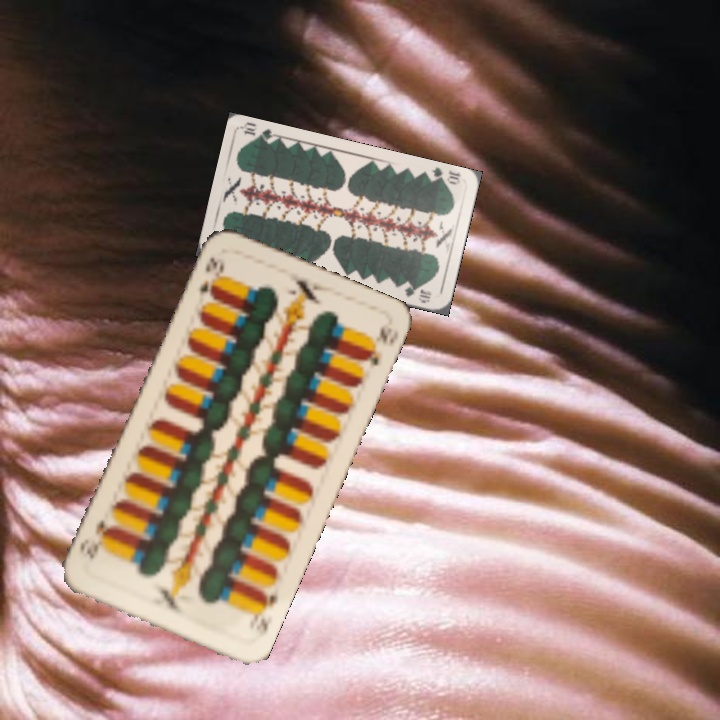E10: (248, 585, 281, 644), (194, 252, 227, 305)
G10: (423, 164, 464, 187)
